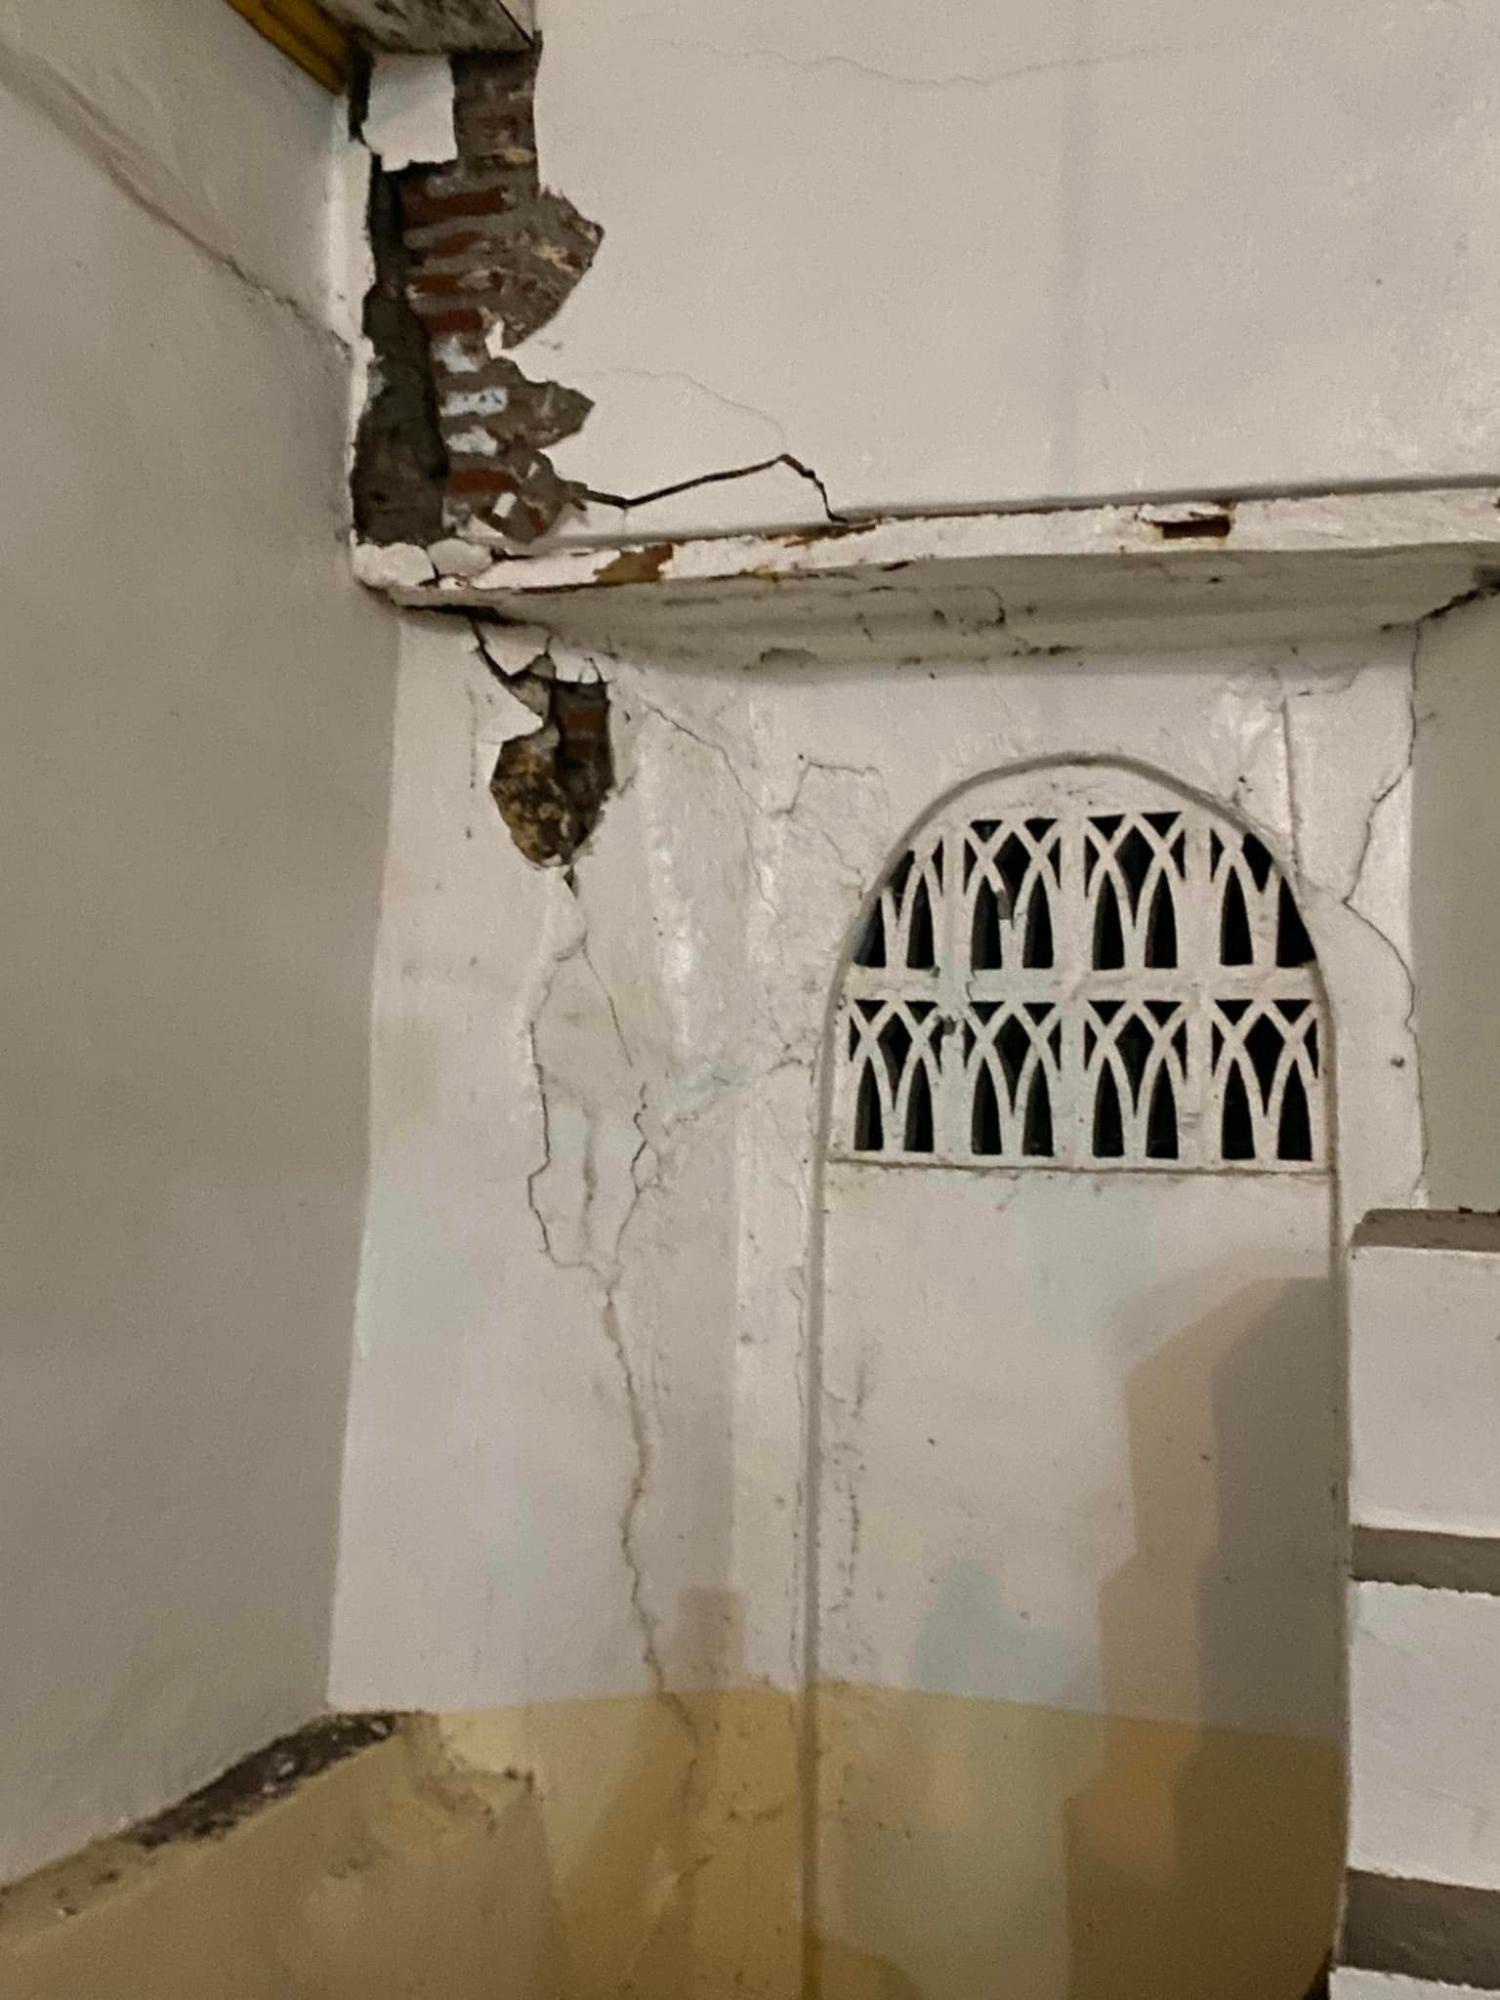crack: (446, 631, 662, 891), (503, 965, 666, 1291), (1357, 605, 1475, 953), (562, 439, 852, 542)
